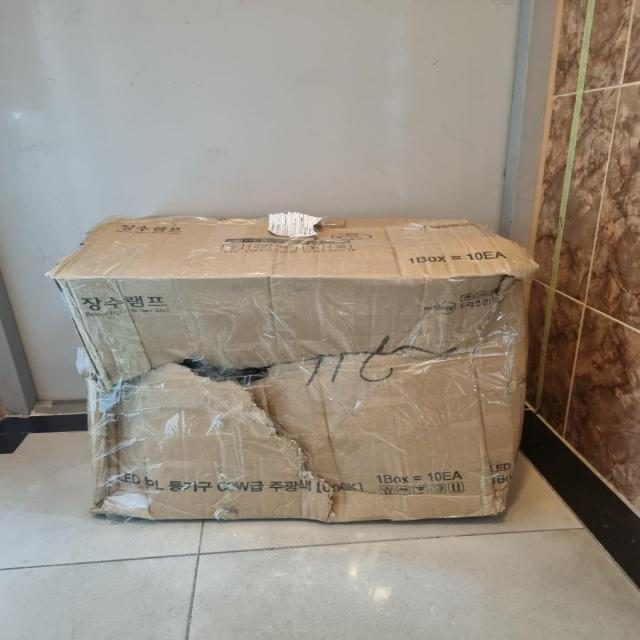hole: (173, 352, 278, 396)
